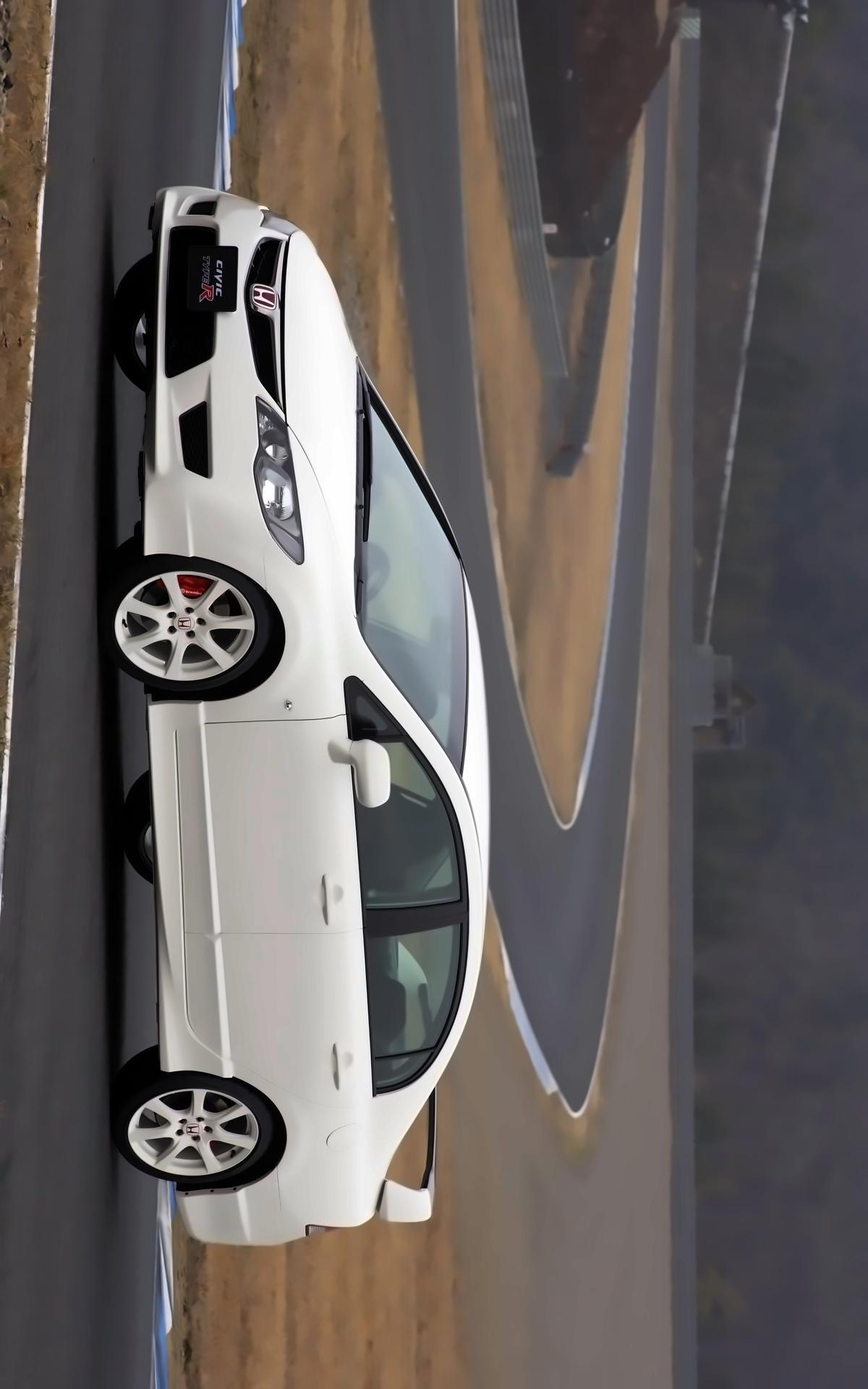Car hood: (282, 222, 376, 675)
Fender - -F-L-: (133, 546, 389, 735)
Fender - -R-L-: (157, 1059, 436, 1219)
Front bumper: (133, 176, 267, 574)
Headlight - -L-: (246, 391, 307, 570)
Passenger-s door - -F-L-: (133, 700, 507, 947)
Passenger-s door - -R-L-: (133, 888, 511, 1105)
Rear bumper: (164, 1176, 316, 1264)
Side bumper - -L-: (121, 688, 258, 1092)
Side mirror - -L-: (326, 729, 395, 812)
